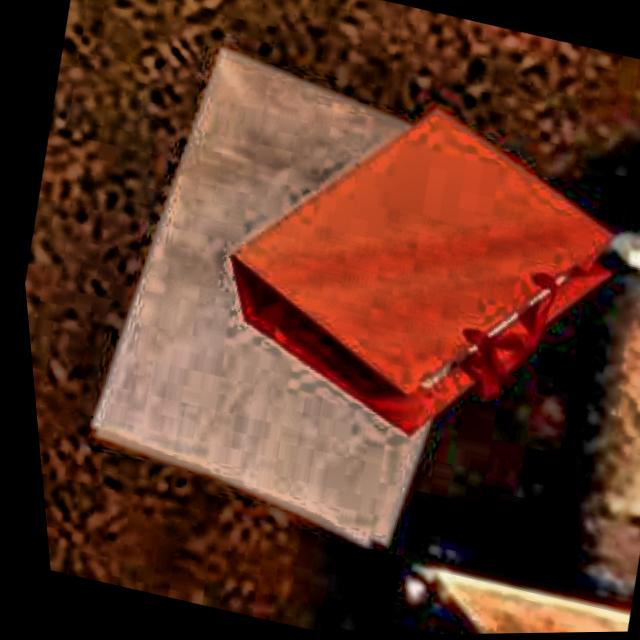Paper-bag: (24, 13, 556, 599), (169, 48, 640, 492)
